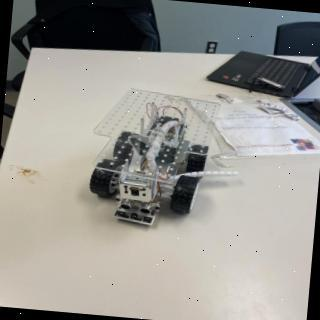vehicle: (85, 84, 223, 237)
